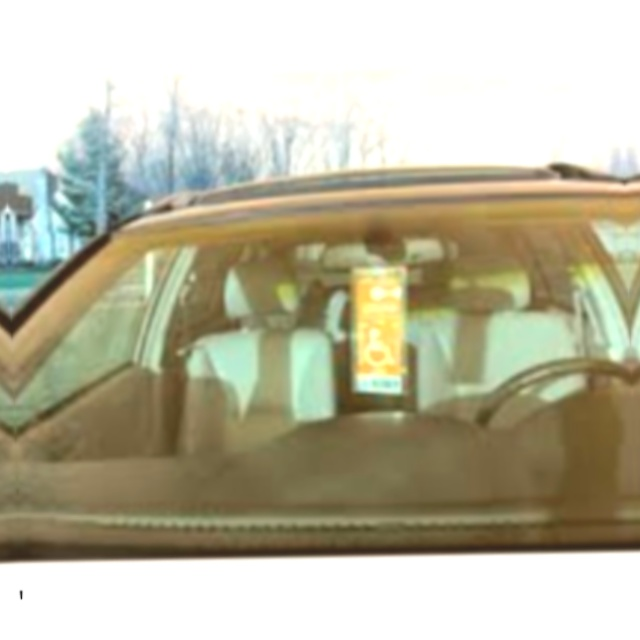ISA: (363, 324, 395, 369)
